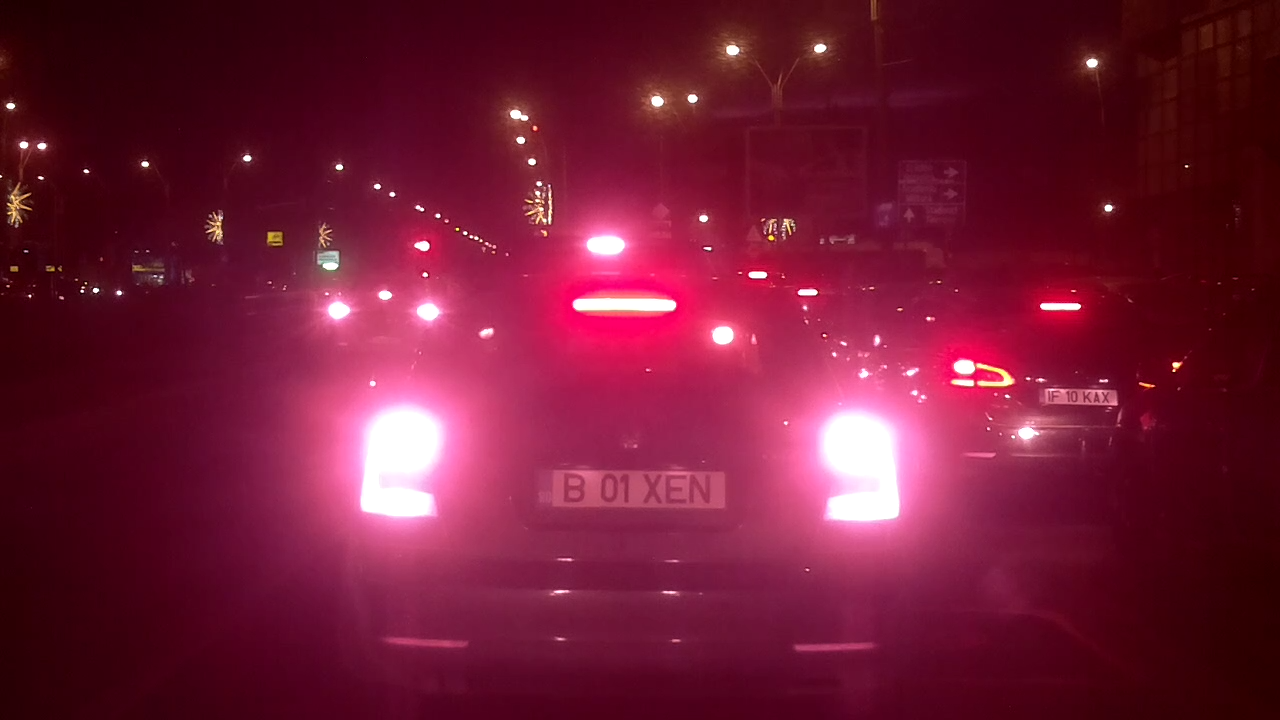license-plate: (530, 464, 731, 514), (1036, 386, 1120, 407)
